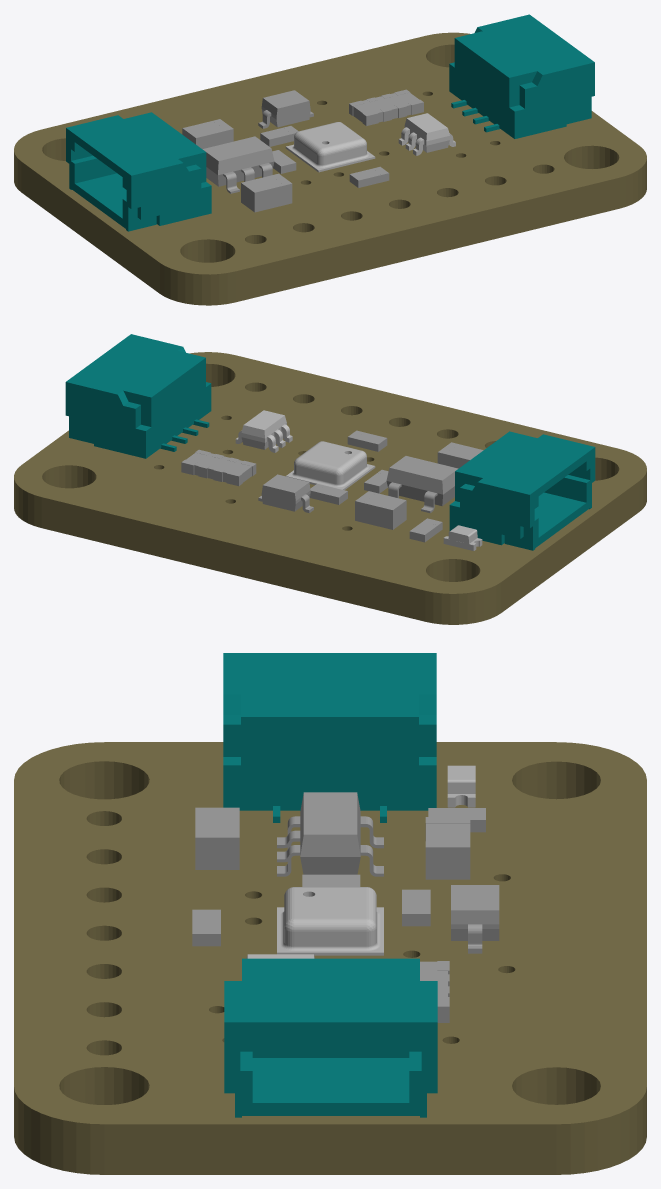
File: adafruit-3660-bme680.glb
3 views of the same model, one above another, from view 1: azimuth 30°, elevation 25°; view 2: azimuth 150°, elevation 25°; view 3: azimuth 270°, elevation 25° (orthographic). The views are drawn at different scales.
Visible parts, largest first — view 1: colour 1, colour 4, colour 2, colour 5, colour 3; view 2: colour 1, colour 4, colour 2, colour 5, colour 3; view 3: colour 1, colour 4, colour 2, colour 5.
Part boxes in pixels (x1=…): colour 1: x1=14, y1=32, x2=646, y2=305; colour 4: x1=66, y1=14, x2=594, y2=231; colour 2: x1=182, y1=89, x2=423, y2=212; colour 5: x1=285, y1=122, x2=375, y2=172; colour 3: x1=398, y1=113, x2=455, y2=155; colour 1: x1=14, y1=352, x2=646, y2=624; colour 4: x1=65, y1=334, x2=595, y2=550; colour 2: x1=181, y1=430, x2=483, y2=542; colour 5: x1=286, y1=441, x2=482, y2=550; colour 3: x1=235, y1=410, x2=292, y2=452; colour 1: x1=14, y1=742, x2=646, y2=1174; colour 4: x1=223, y1=653, x2=437, y2=1117; colour 2: x1=192, y1=792, x2=499, y2=1022; colour 5: x1=277, y1=765, x2=475, y2=955.
Bounding box in the file's own units: 0.0254 × 0.00453 × 0.0178.
